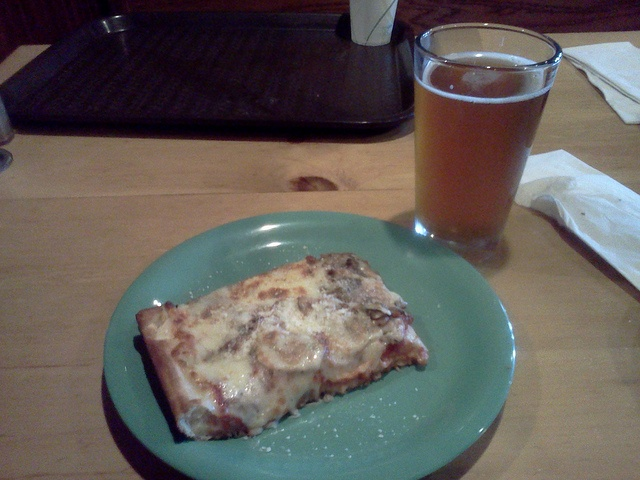cup: (350, 0, 640, 44)
pizza: (138, 251, 566, 480)
